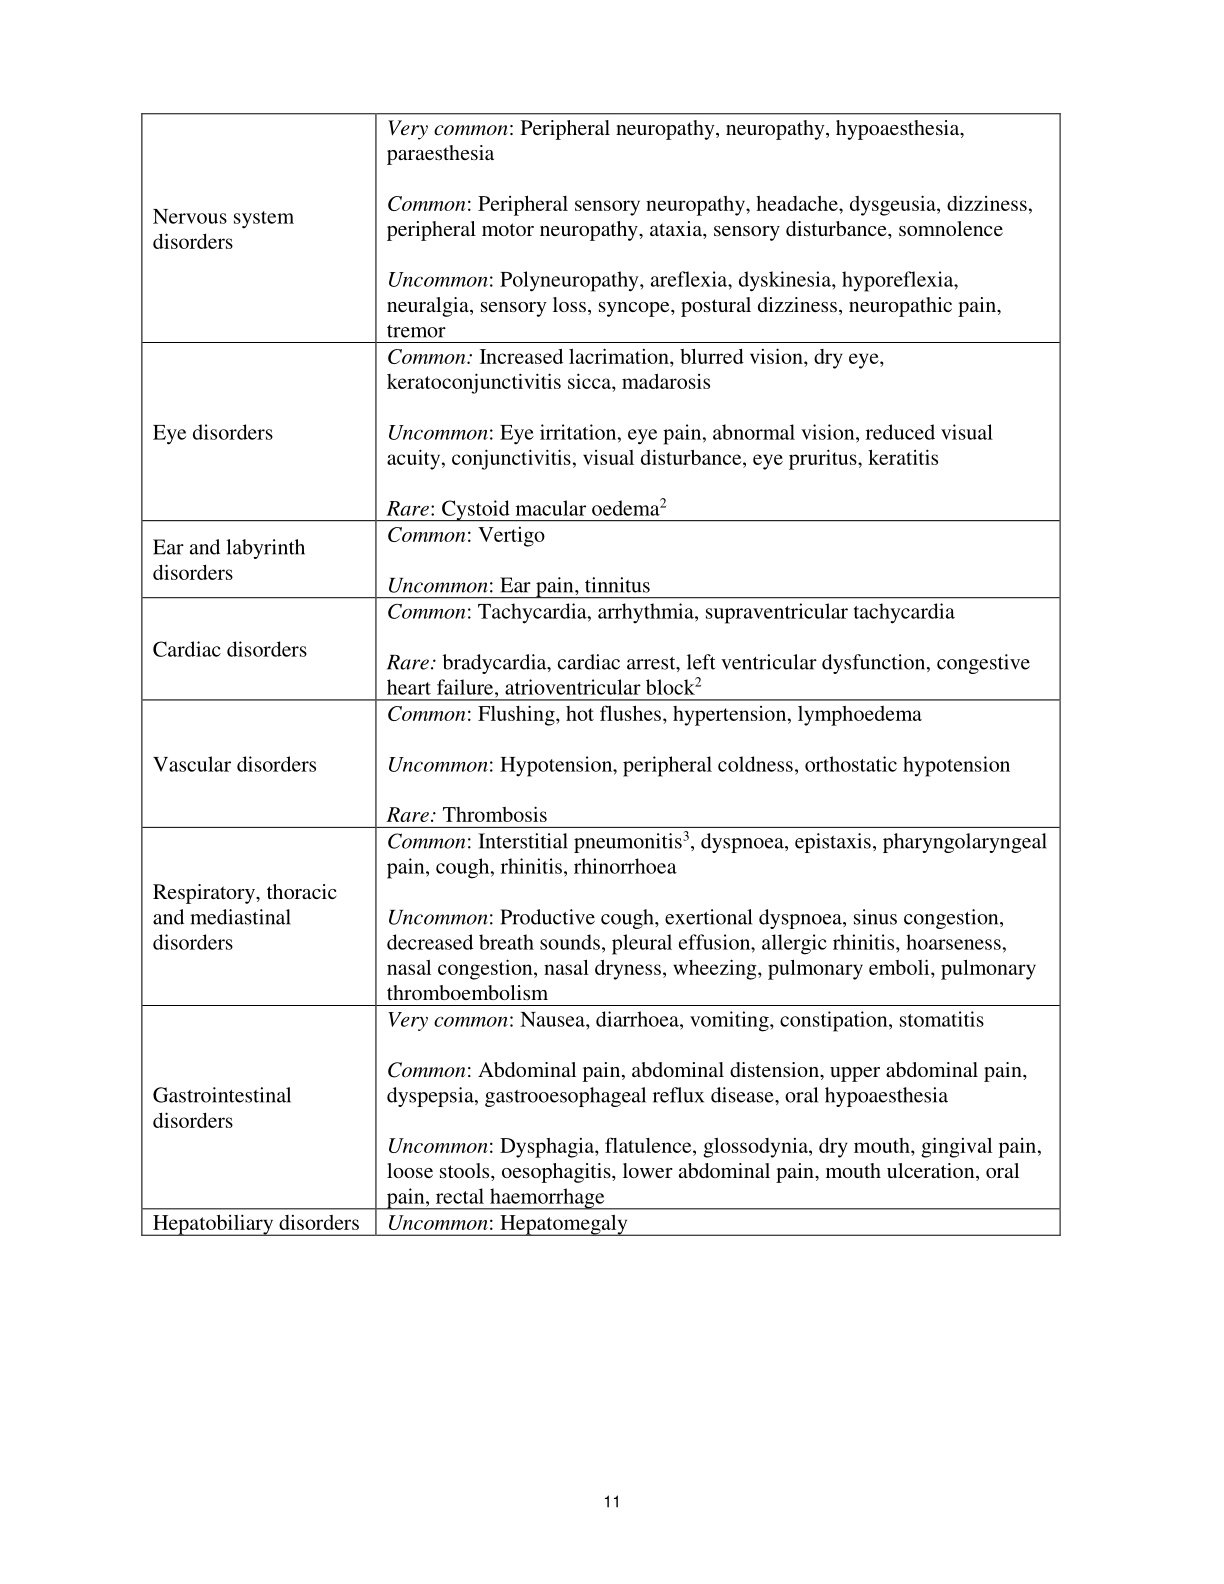full_lined: (141, 113, 1061, 1237)
